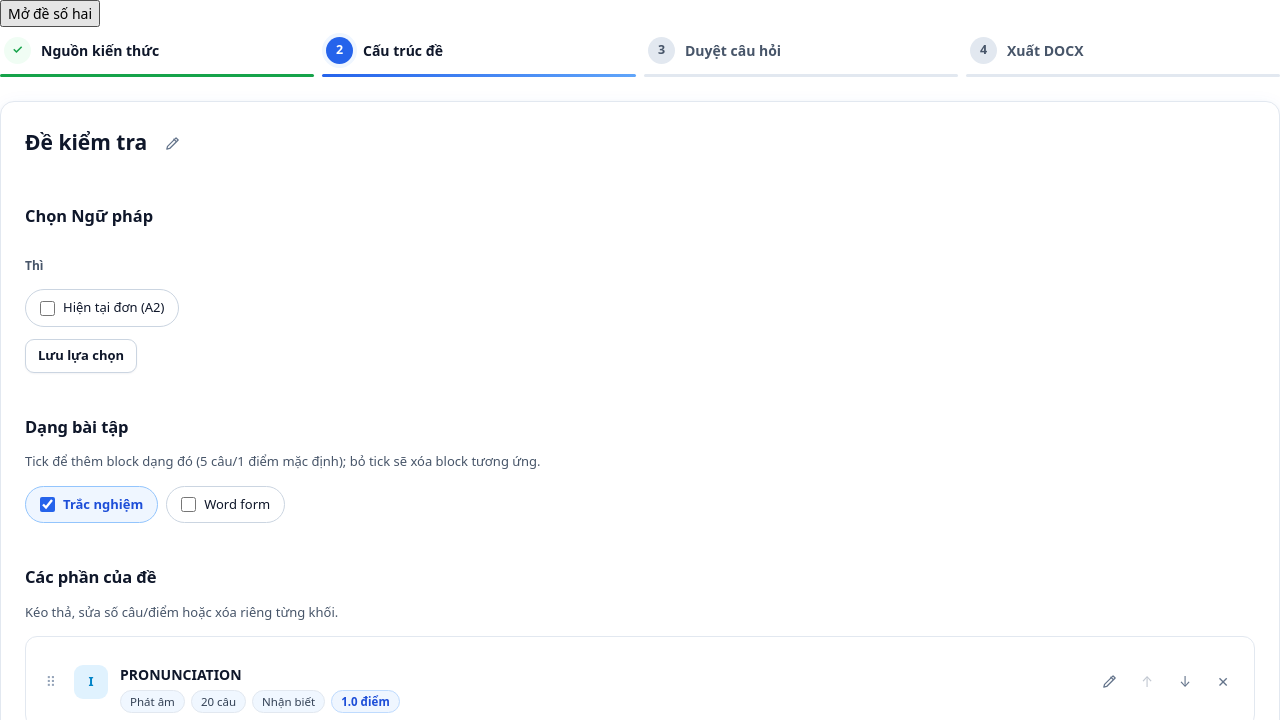
Test: ExamBuilderPage › lets the teacher drop a Pronunciation sub-part to get the 3-part format
Click the button named "Chỉnh sửa PRONUNCIATION": (1109, 682) [1092,665,1126,699]
(page scrolled)
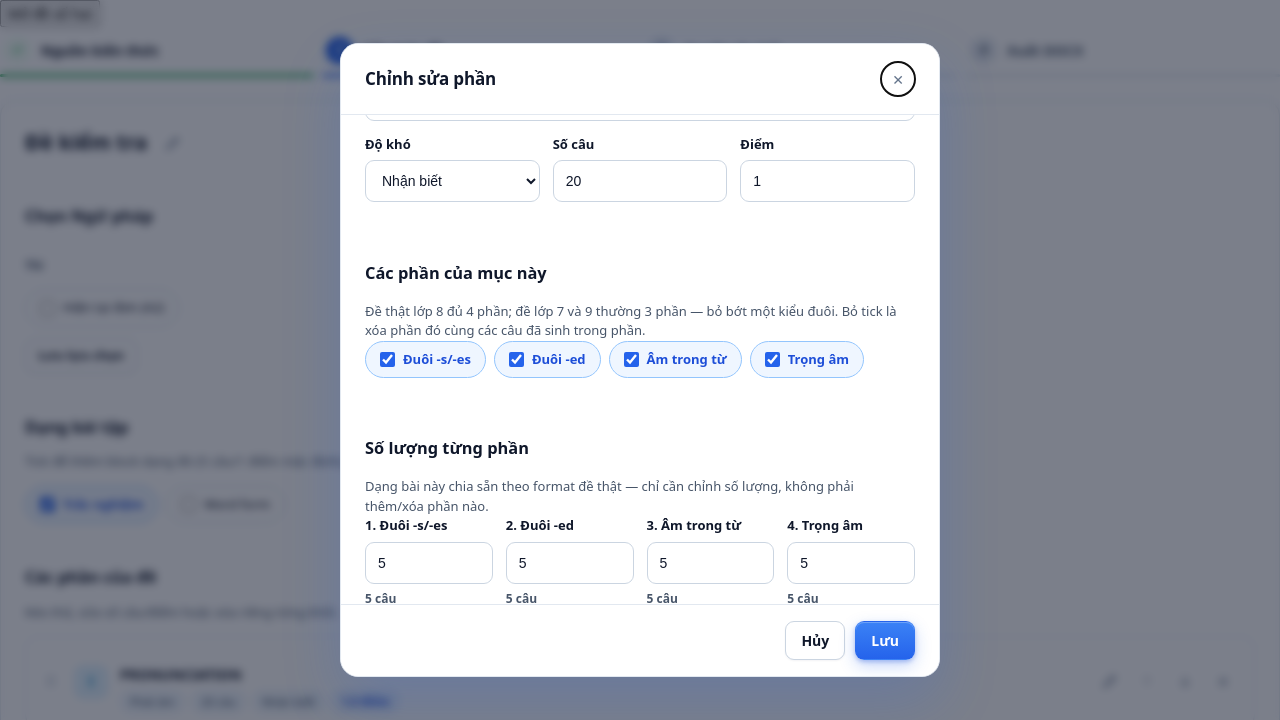
Click the checkbox named "Có phần Đuôi -s/-es": (388, 359) [380,352,395,367]
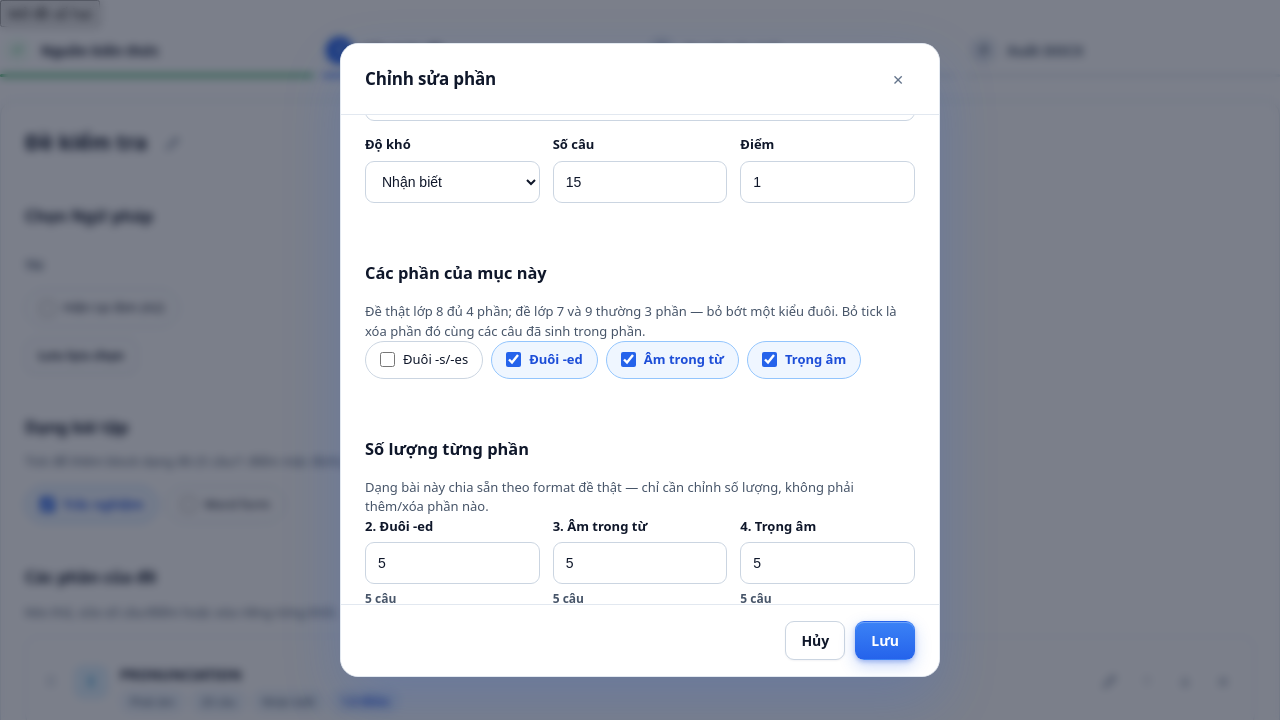
Expected: the label labelled "1. Đuôi -s/-es" is gone
Expected: the number field labelled "Số câu" holds "15", [553,161,727,203]
